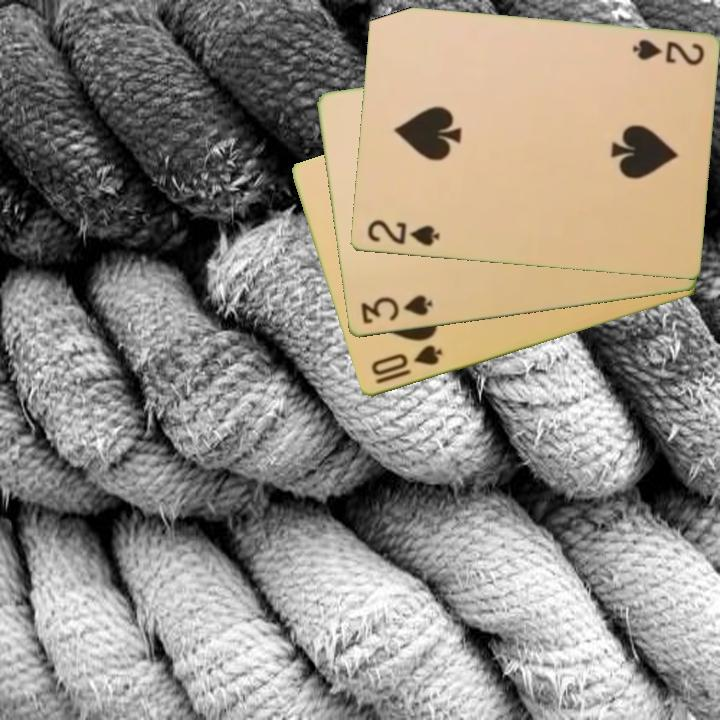10s: (367, 341, 445, 388)
2s: (363, 216, 442, 250), (628, 36, 706, 69)
3s: (357, 292, 435, 327)
